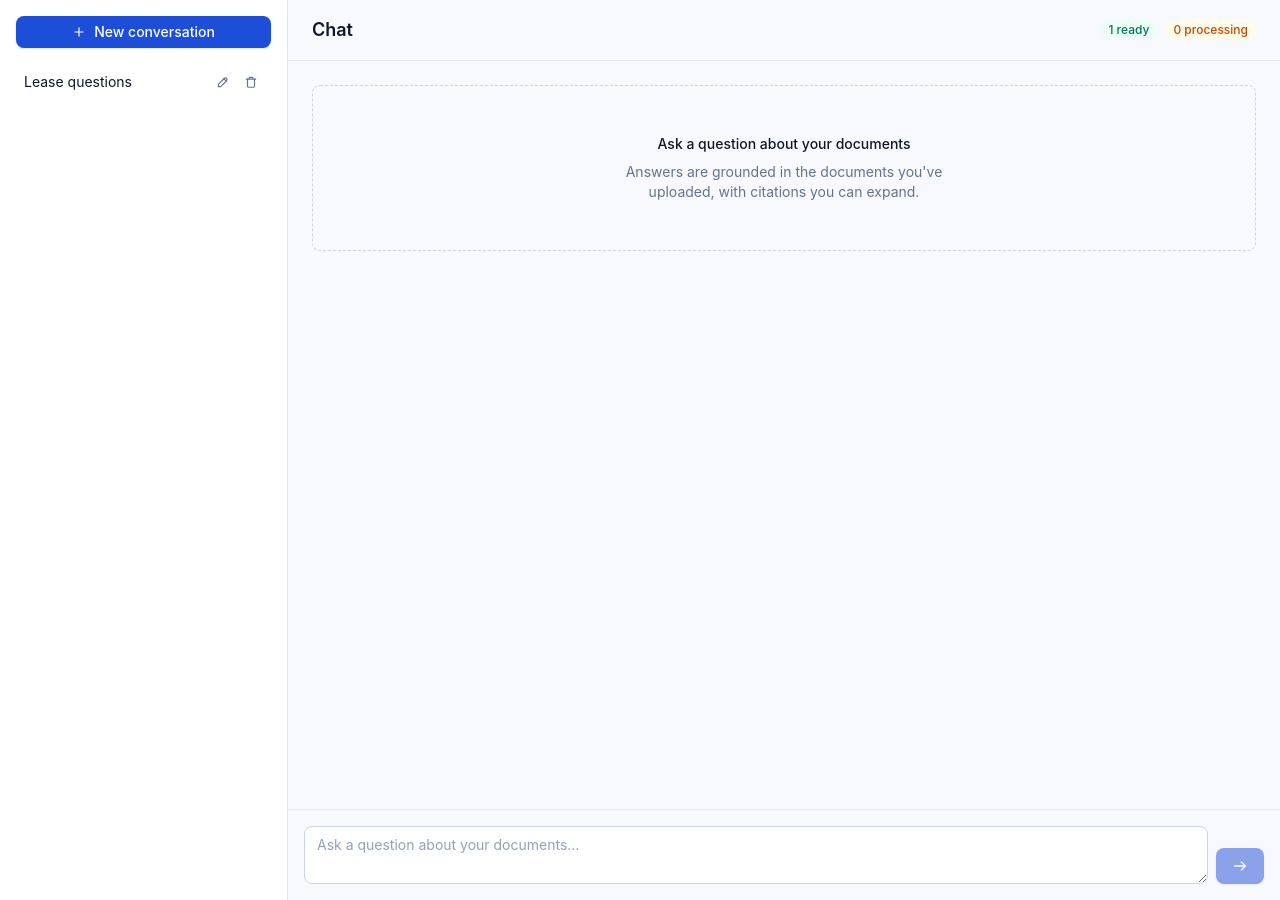
Chat screen › AC-052: delete asks for confirmation; on confirm the conversation disappears and the open thread clears
Click the button "Lease questions" at (116, 82), box [24,72,207,92]
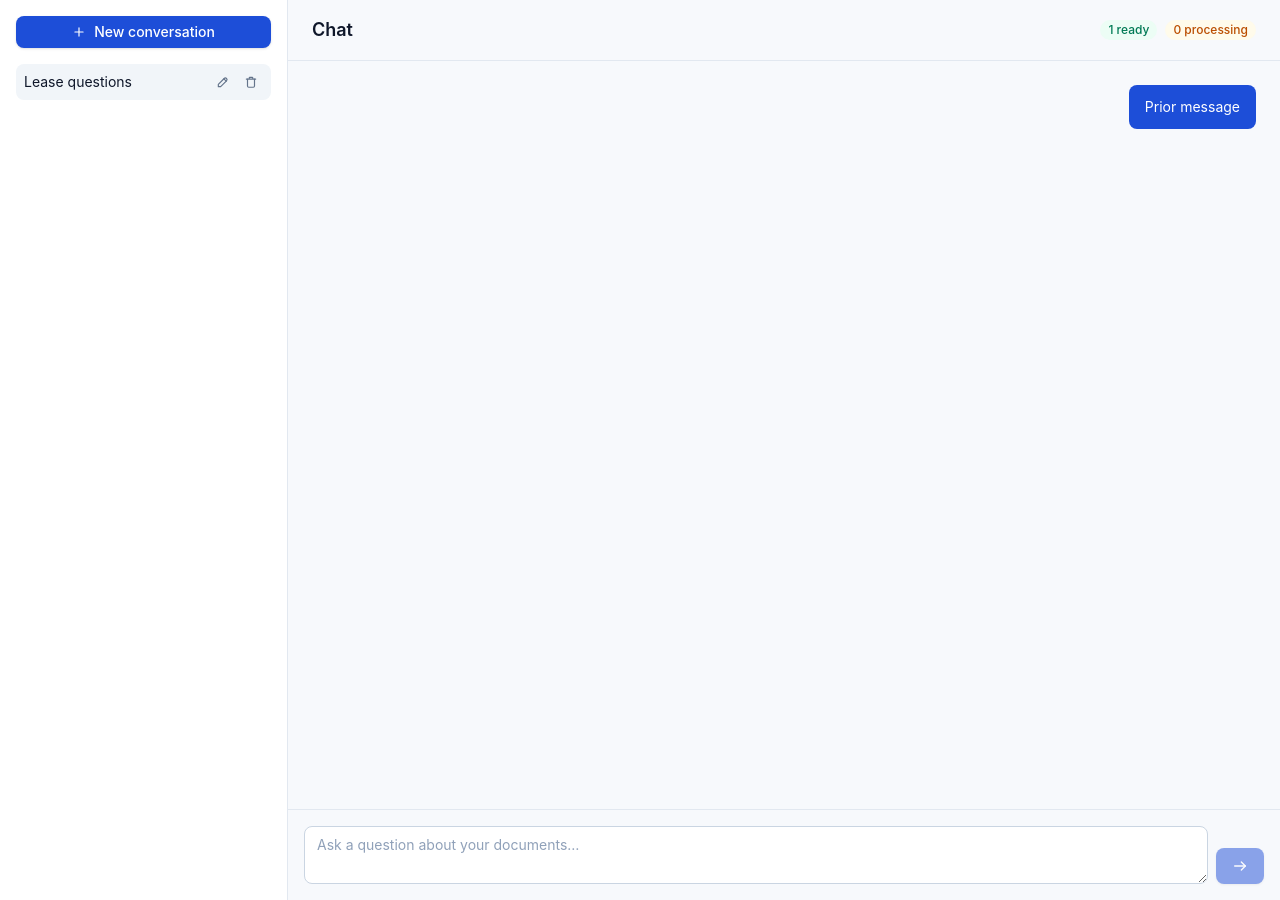
Now the text "Prior message" is shown, box [1145,97,1240,117]
Click the button named "delete lease questions" at (251, 82), box [239,70,263,94]
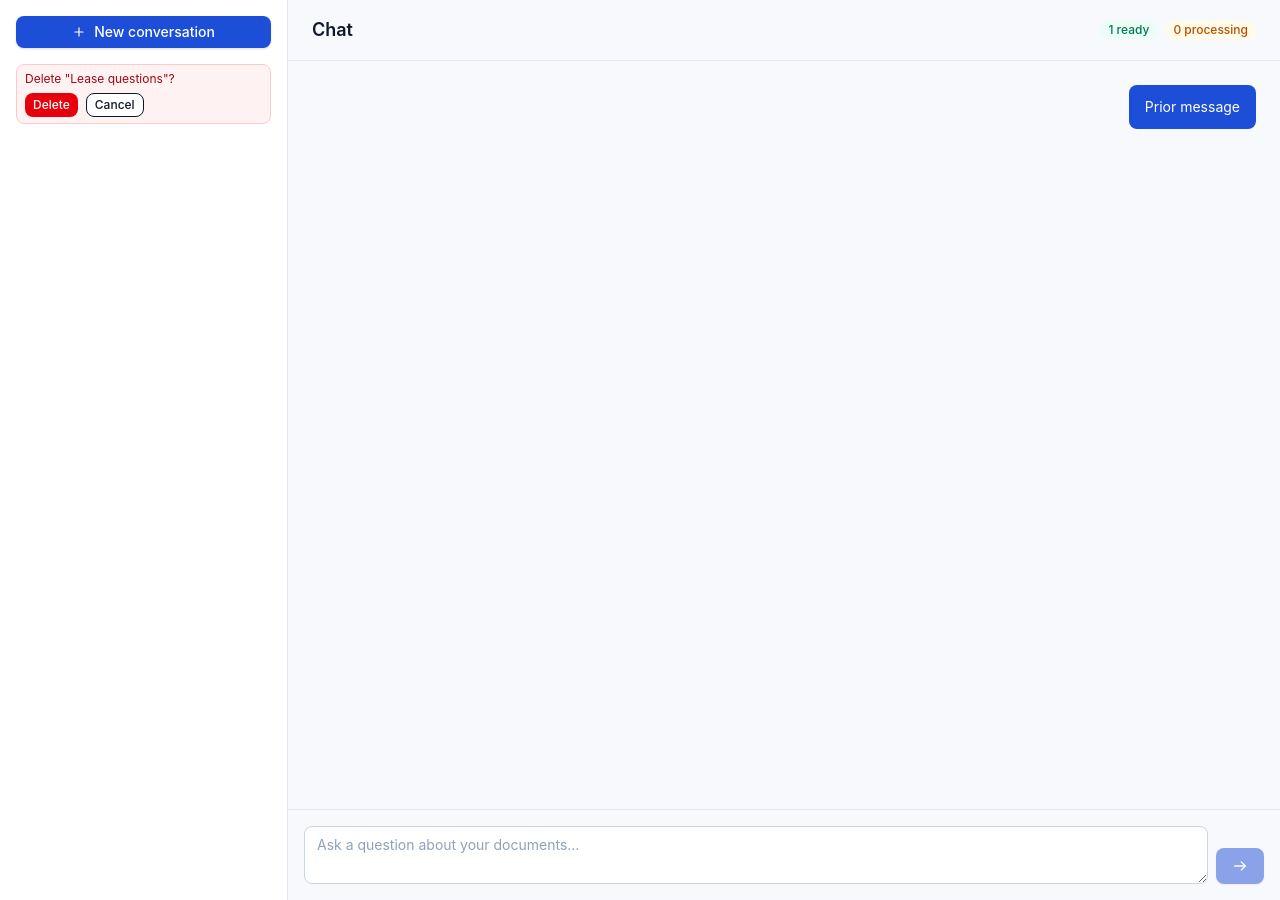
Now the text "Delete \"Lease questions\"?" is shown, box [25,71,175,86]
Click the button "Delete" at (51, 105), box [25,93,78,117]
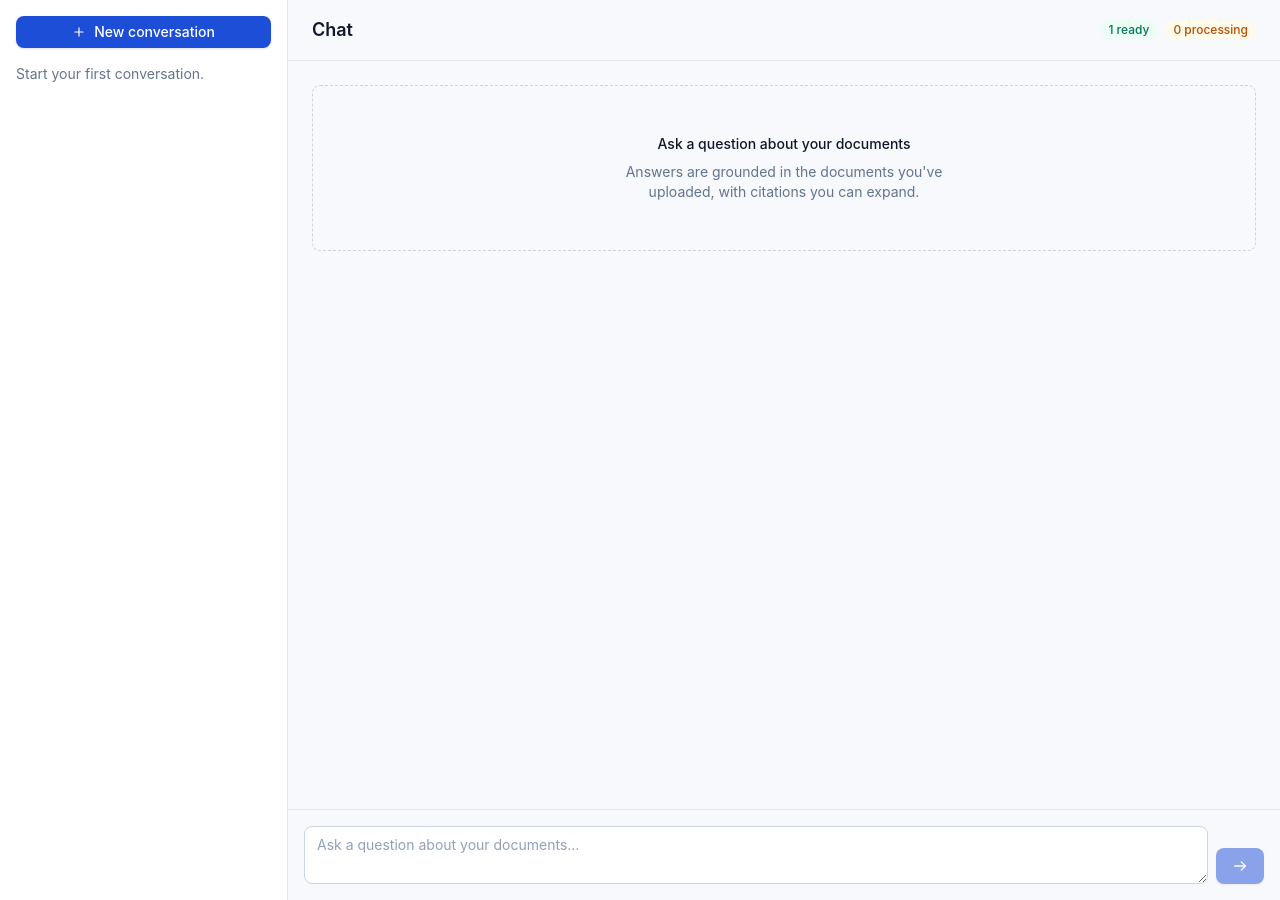
Now the text "Lease questions" is gone
Now the text "Prior message" is gone
